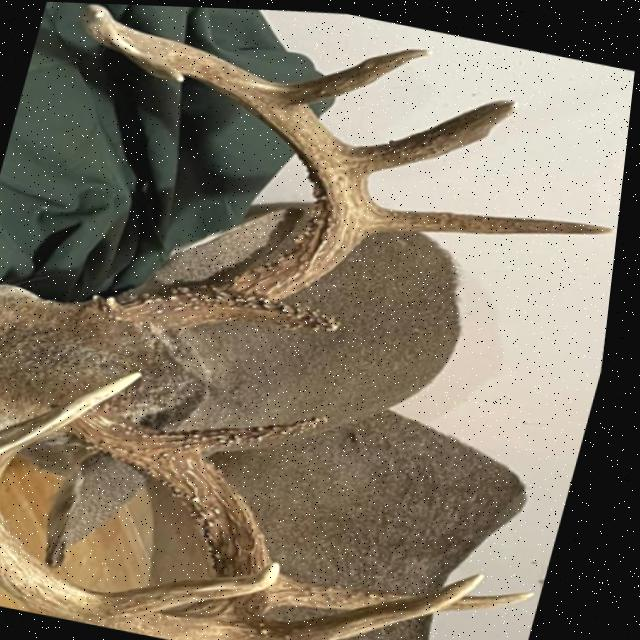L-F: (81, 2, 371, 332)
L-G1: (215, 288, 352, 330)
L-G2: (368, 195, 619, 239)
L-G3: (348, 94, 524, 173)
L-G4: (270, 44, 437, 102)
R-G1: (173, 409, 341, 455)
R-G3: (241, 565, 502, 640)
R-G4: (110, 558, 296, 617)
